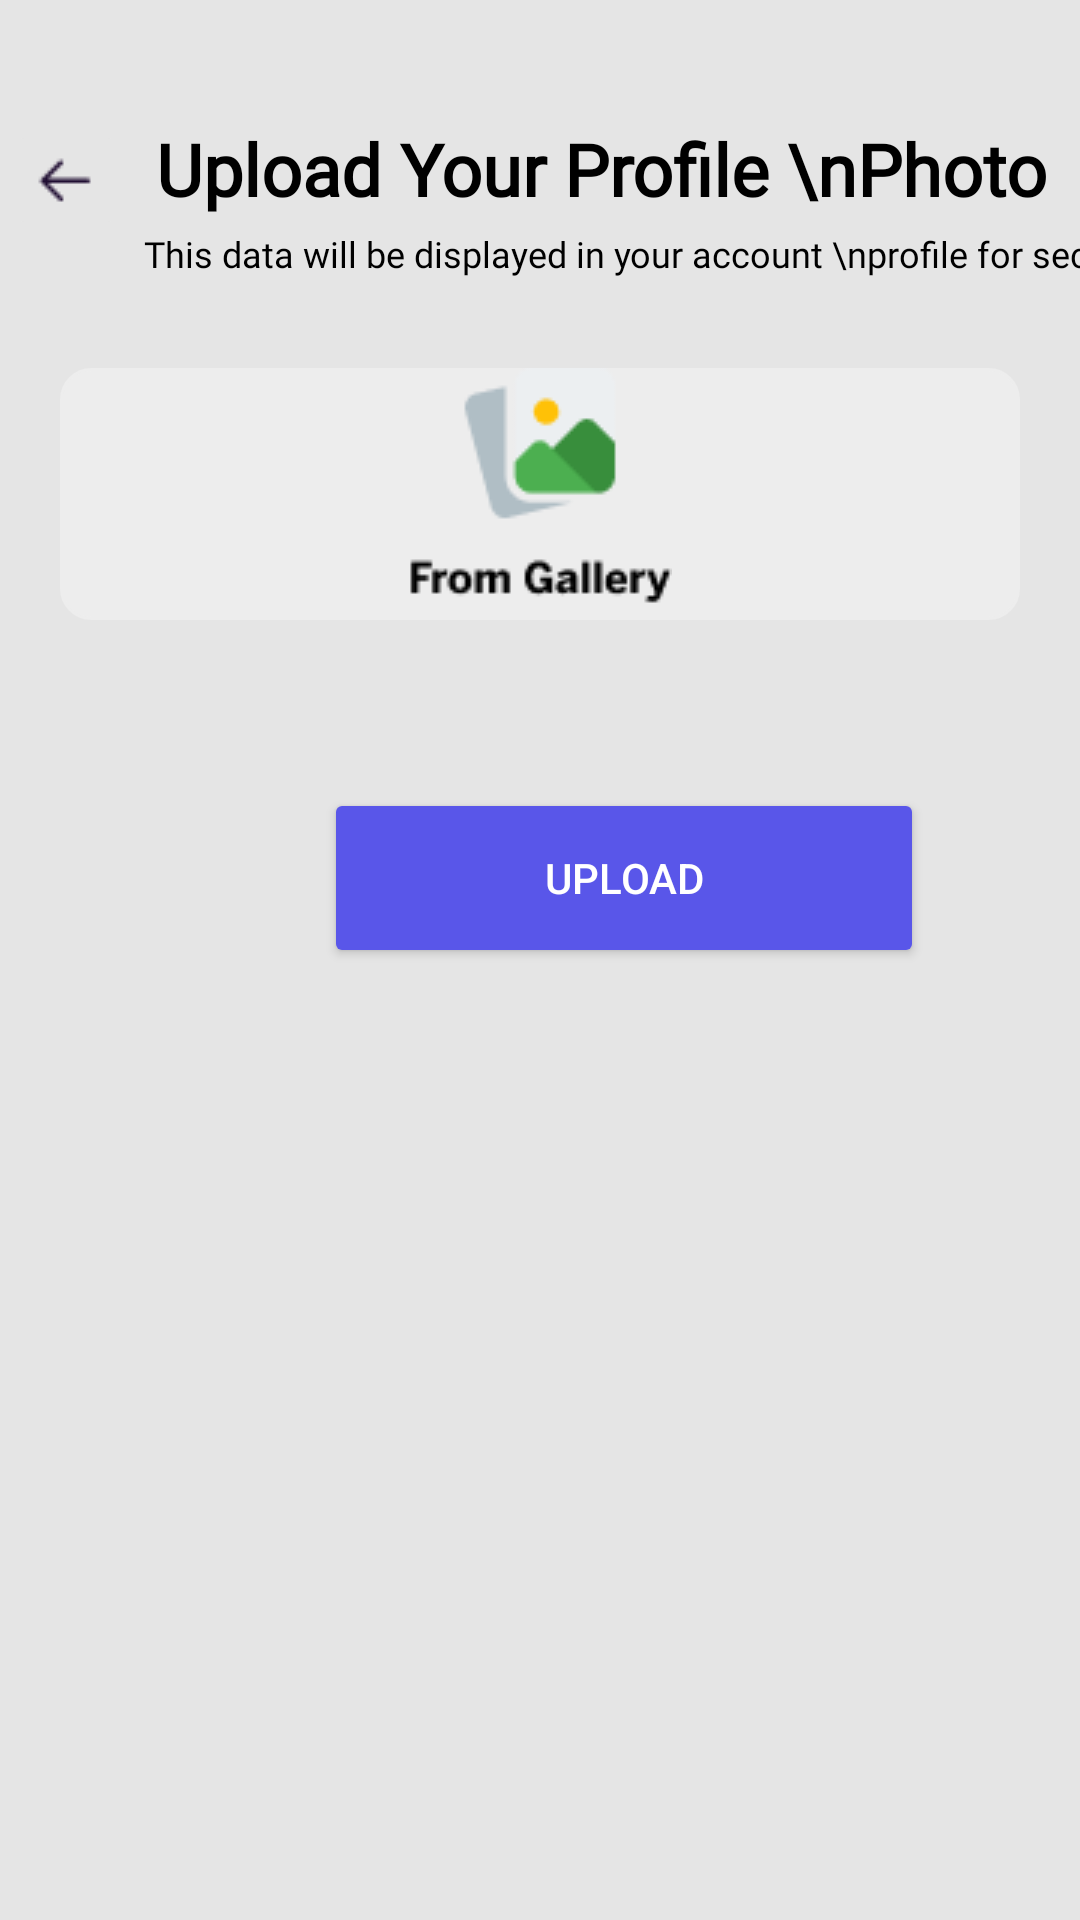

Icon click points for this 1080px x 1920px phone screenshot, format (x,y):
profile arrow left: (64,180)
